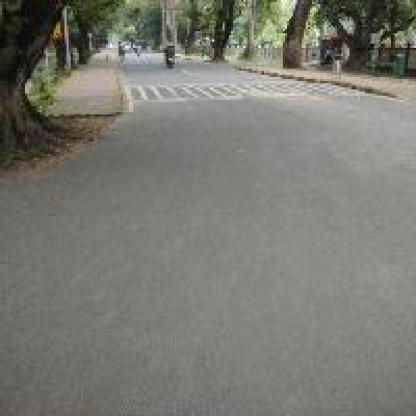Speed Bump: (125, 81, 362, 102)
